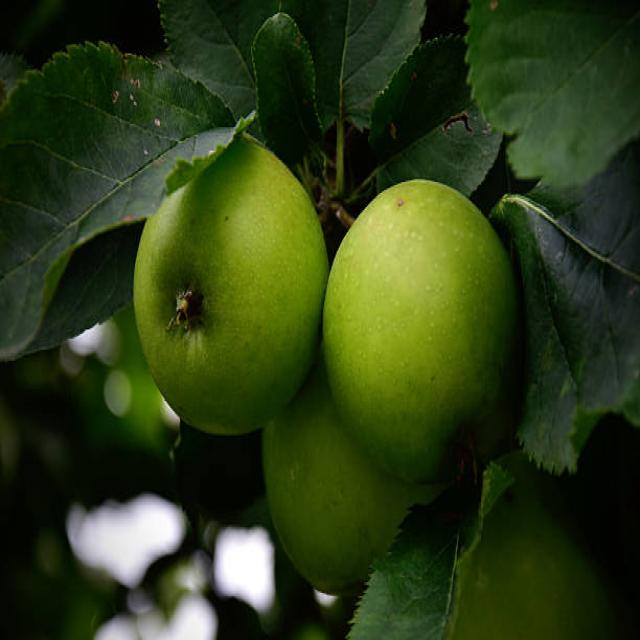Unripe: (323, 178, 526, 499), (134, 135, 326, 430)
